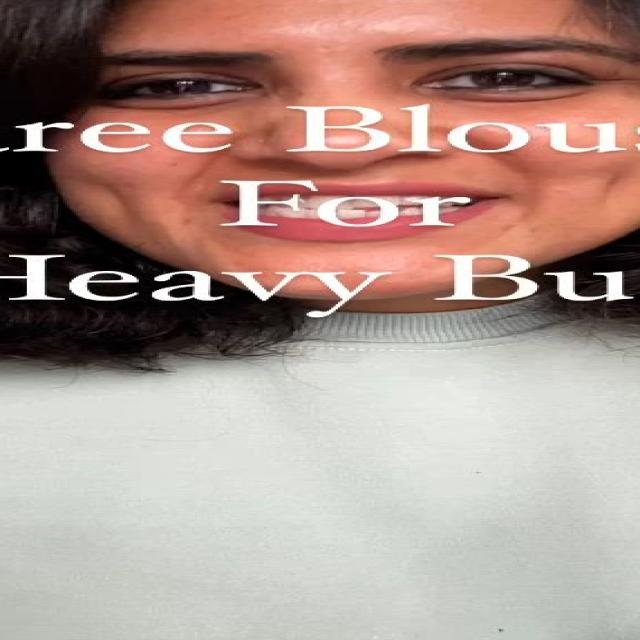Saree: (0, 261, 640, 640)
